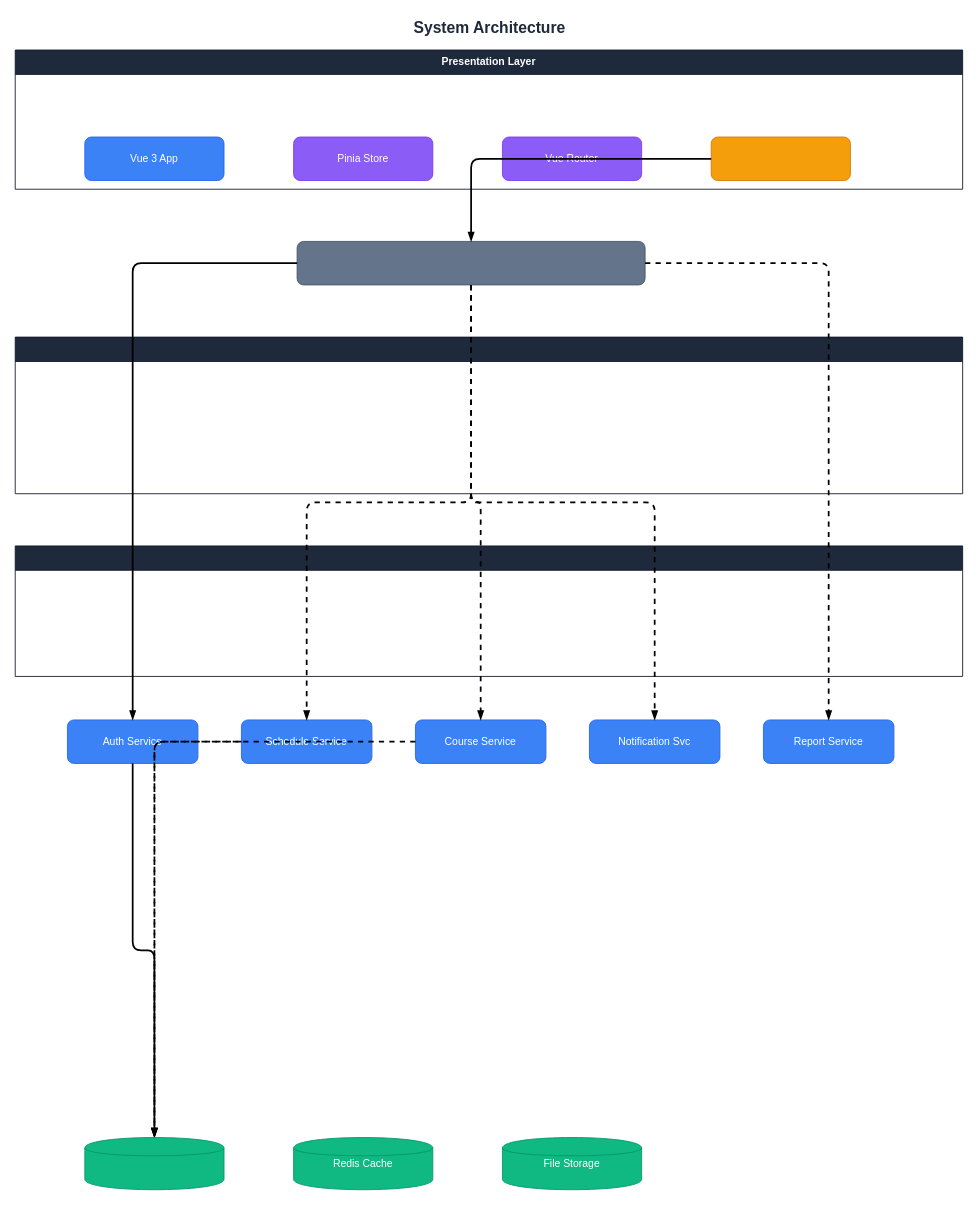
Some shapes in this 978 by 1205 pixel diagram are drawn without their labels. The centre of each missing label's shape, as x and y in pixels:
API Client: pixel 780 158
API Gateway / Load Balancer: pixel 470 263
Data Layer: pixel 488 610
Service Layer: pixel 488 415
SQL Server: pixel 154 1163
